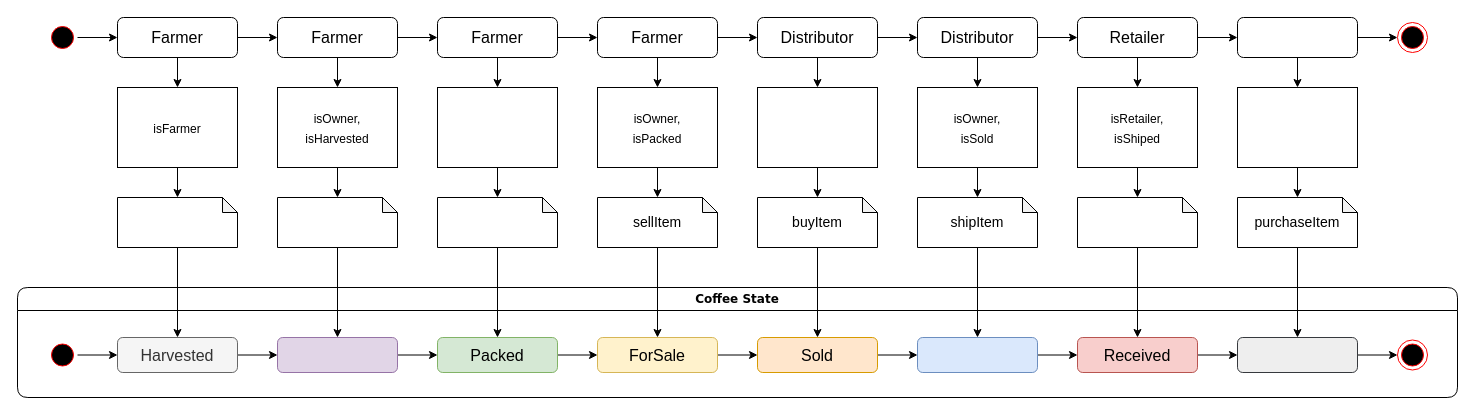
Image size: 1475x415. Some labels were removed from this diagram. The shapes that lost their labels are listed below. From the top down, each one's box as (x1, y1, x2, y2) in pixels, then its label:
(1236, 16, 1358, 58): Customer
(436, 86, 558, 168): isOwner, isProcessed
(756, 86, 878, 168): isDistributor, isForSale, hasPaidEnough
(1236, 86, 1358, 168): isCustomer, isReceived
(116, 196, 238, 248): harvestItem
(276, 196, 398, 248): processItem
(436, 196, 558, 248): packItem
(1076, 196, 1198, 248): receiveItem
(276, 336, 398, 372): Processed
(916, 336, 1038, 372): Shiped
(1236, 336, 1358, 372): Purchased
